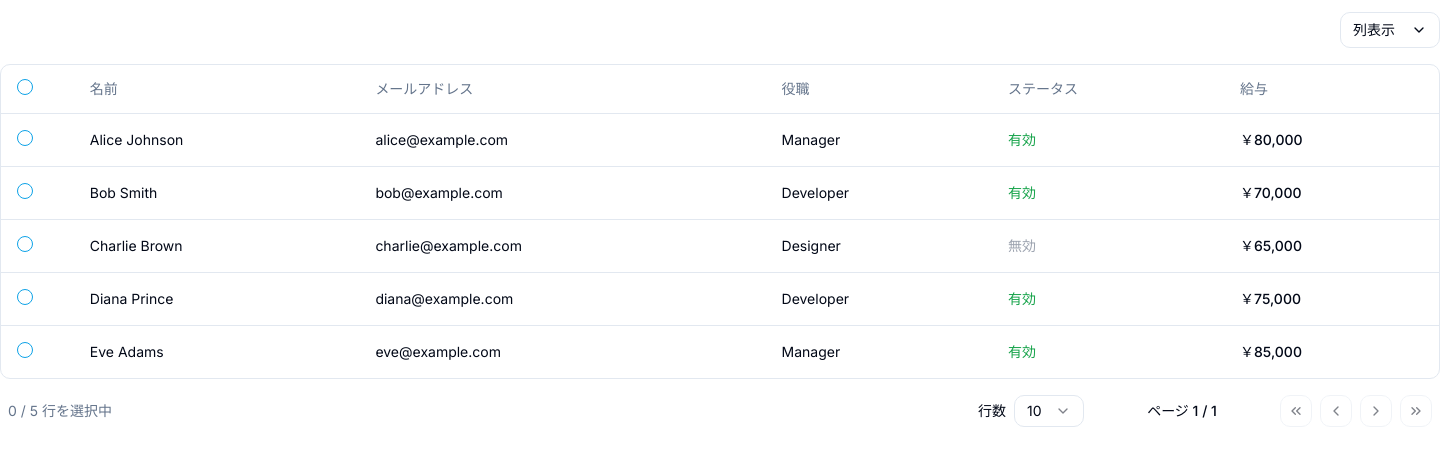
Test case: DataTable › Row Selection › select all works
Click the checkbox named "Select all": (25, 87) top-left (17, 79), bottom-right (33, 95)
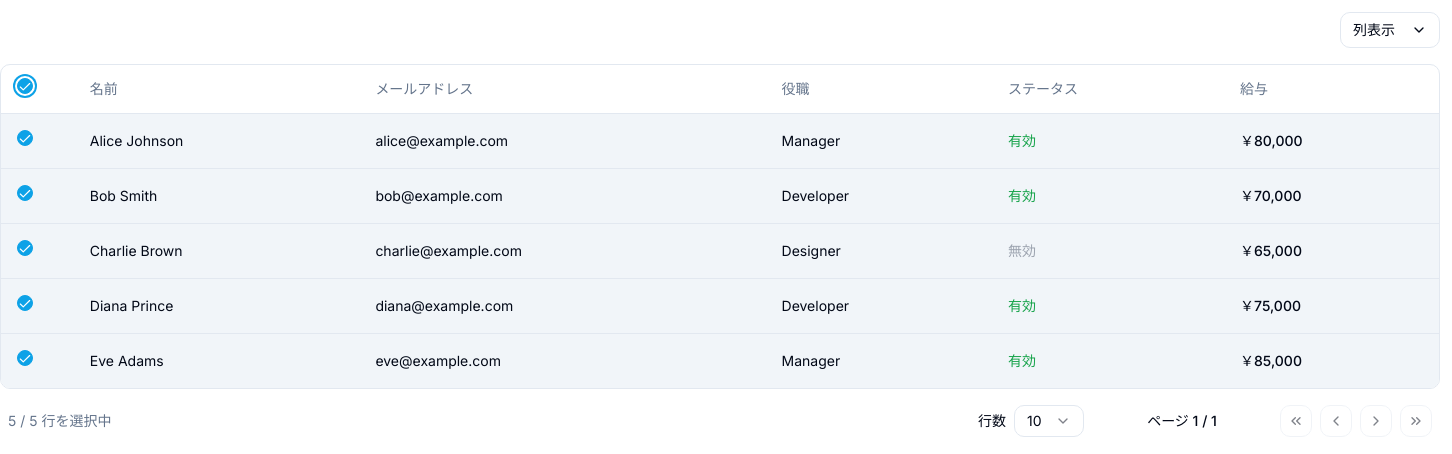
Check: the text "5 / 5 行を選択中" is shown, box top-left (8, 410), bottom-right (112, 430)
